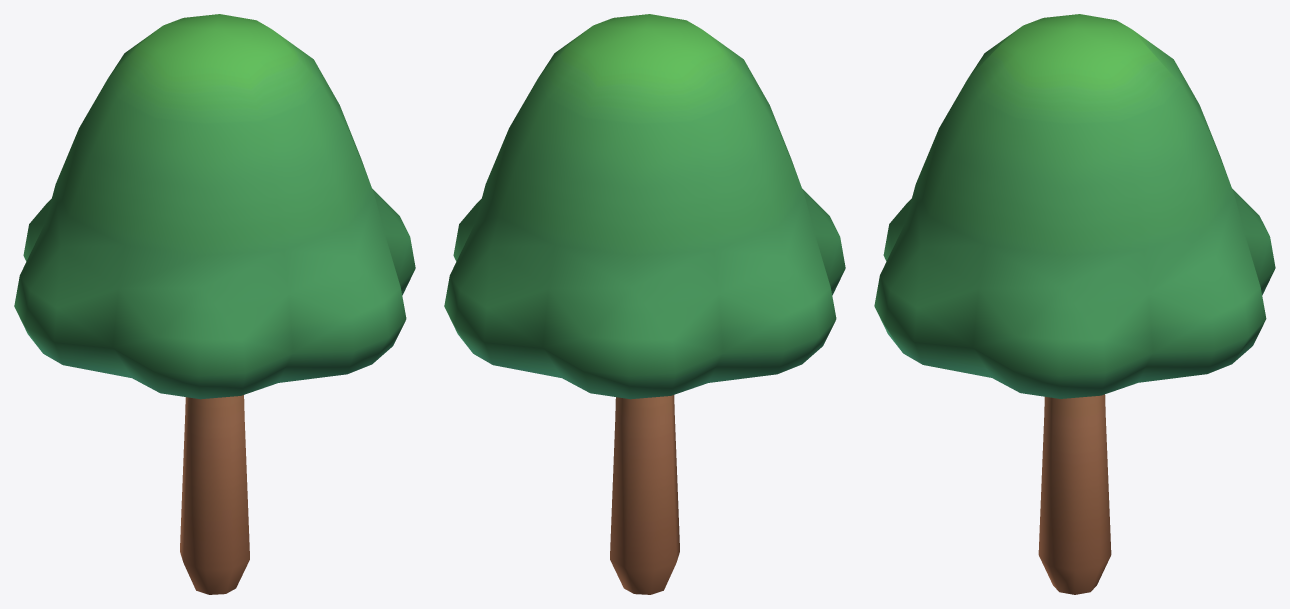
File: prop_park_tree.glb
The picture shows the model from 3 angles, left to right: view 1: azimuth 30°, elevation 25°; view 2: azimuth 150°, elevation 25°; view 3: azimuth 270°, elevation 25°; orthographic projection.
Parts seen in each view (by area): view 1: tree; view 2: tree; view 3: tree.
Boxes of the visible parts, box(x1,y1,x2,y2) form: tree: box(14, 14, 415, 594); tree: box(444, 14, 845, 594); tree: box(874, 14, 1275, 594).
Size of the model in its own units: 2.48 by 3.62 by 2.37.
1 material, 1 textured.
